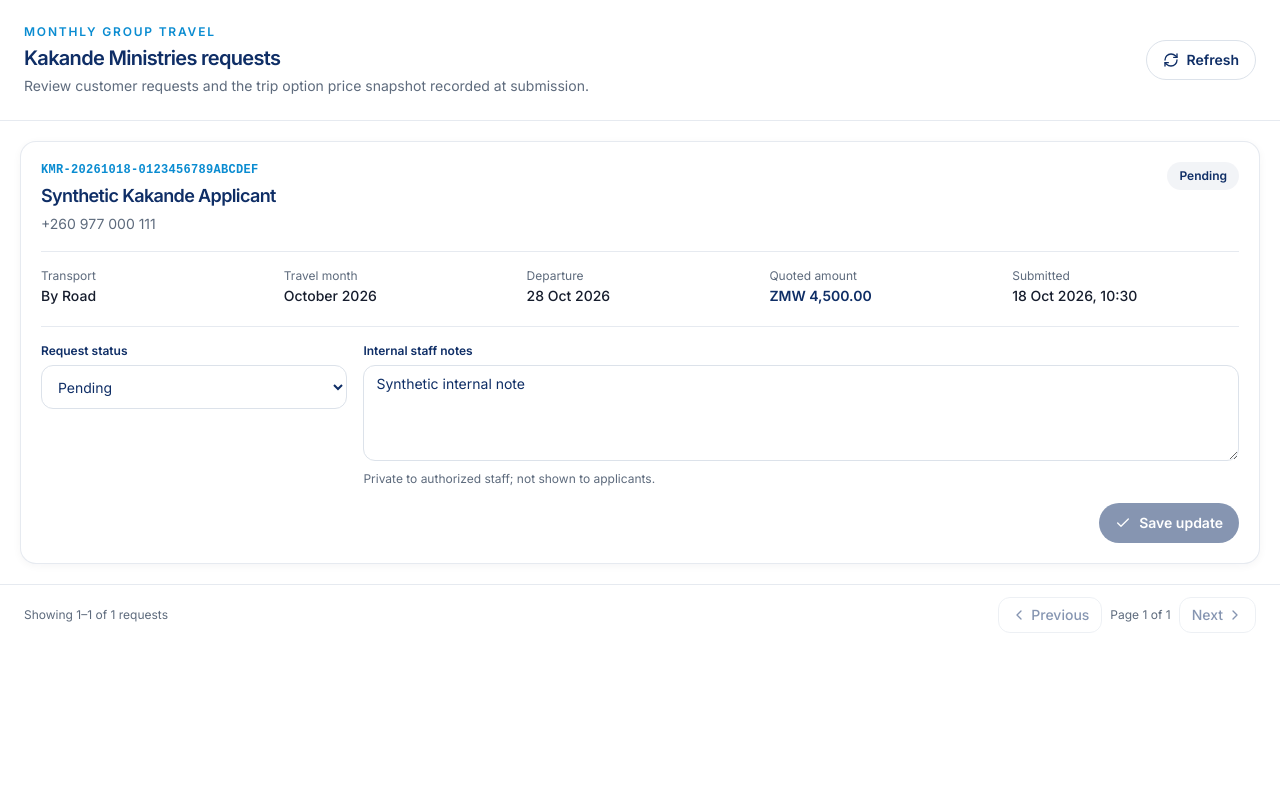
Test case: admin Kakande request list › lets an authorized admin update status and private notes through the RPC, then refreshes the saved status
Check: the text "KMR-20261018-0123456789ABCDEF" is shown, box x1=41 y1=162 x2=276 y2=178
Select "Approved by Luskam" in the dropdown named "Request status for KMR-20261018-0123456789ABCDEF" at [194, 387], box x1=41 y1=365 x2=347 y2=409
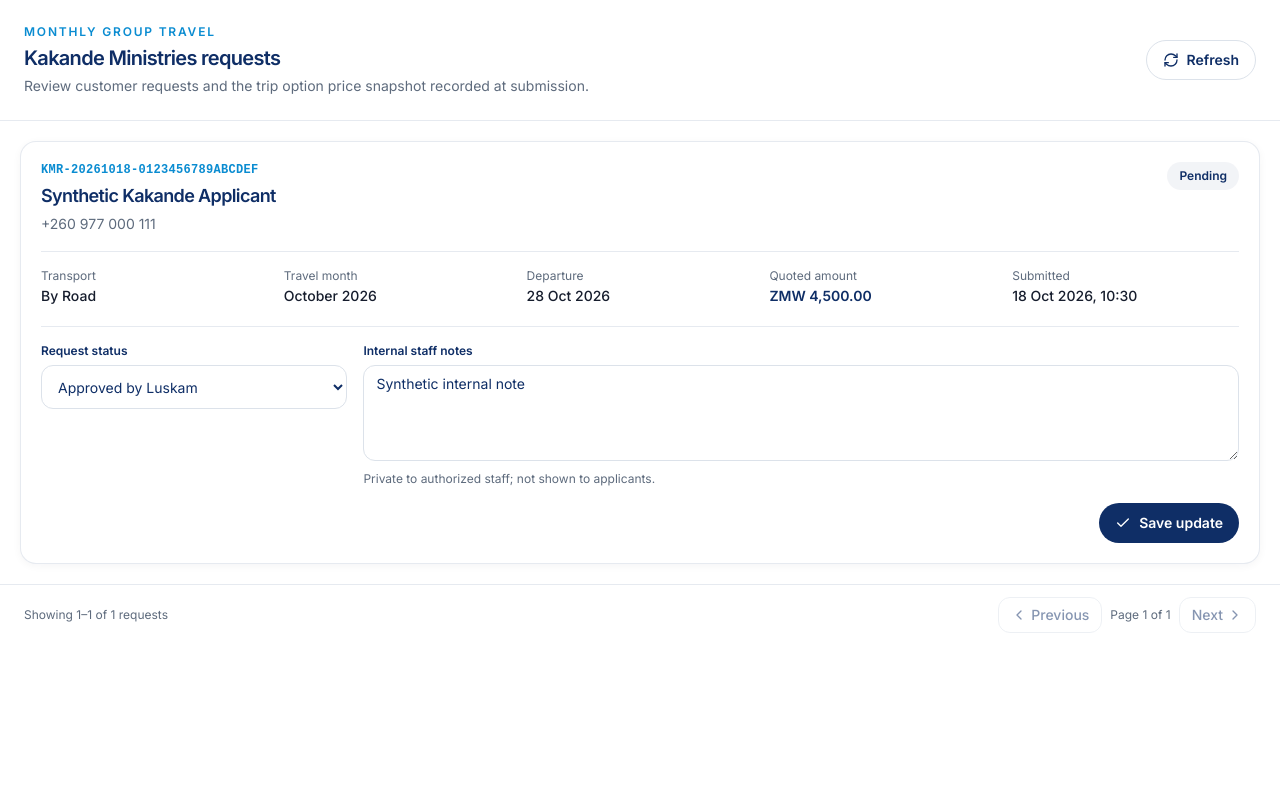
Replace the text in the text box named "Internal staff notes for KMR-20261018-0123456789ABCDEF" with "Reviewed by staff" at [801, 413], box x1=363 y1=365 x2=1239 y2=461
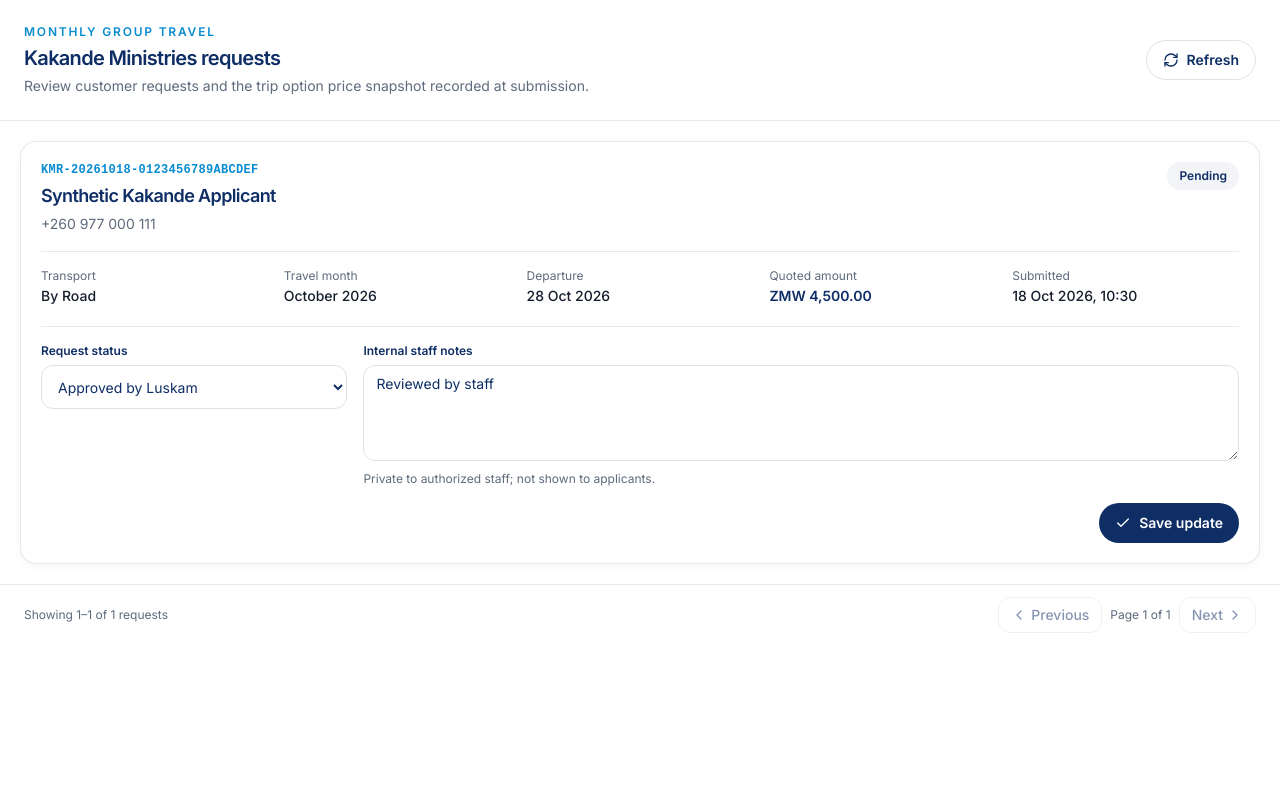
Click the button "Save update" at [1169, 523], box x1=1099 y1=503 x2=1239 y2=543
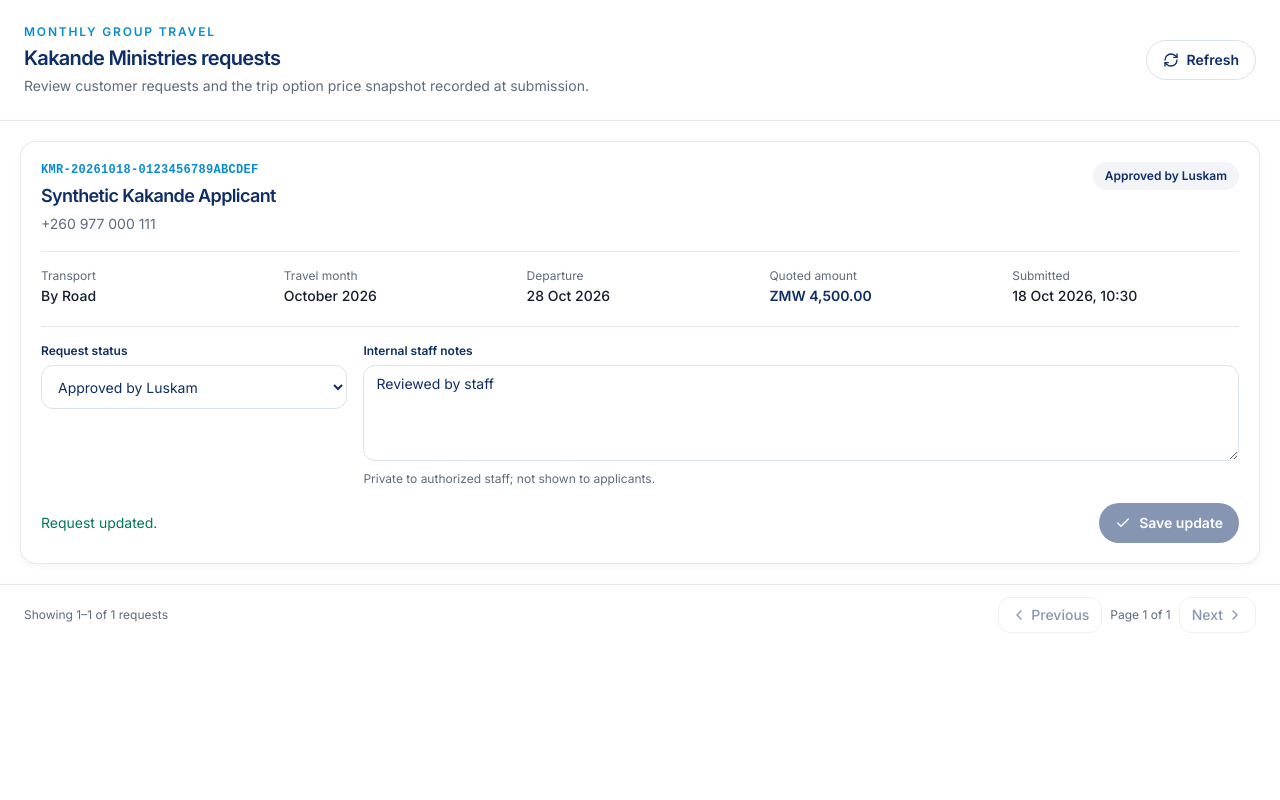
Check: the dropdown named "Request status for KMR-20261018-0123456789ABCDEF" shows "Approved by Luskam", box x1=41 y1=365 x2=347 y2=409
Check: the text "Request updated." is shown, box x1=41 y1=513 x2=157 y2=533
